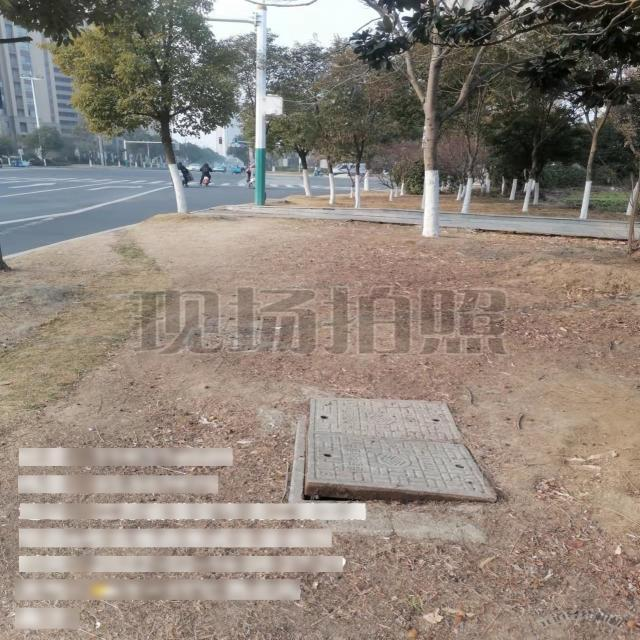Faulty: (294, 392, 496, 514)
